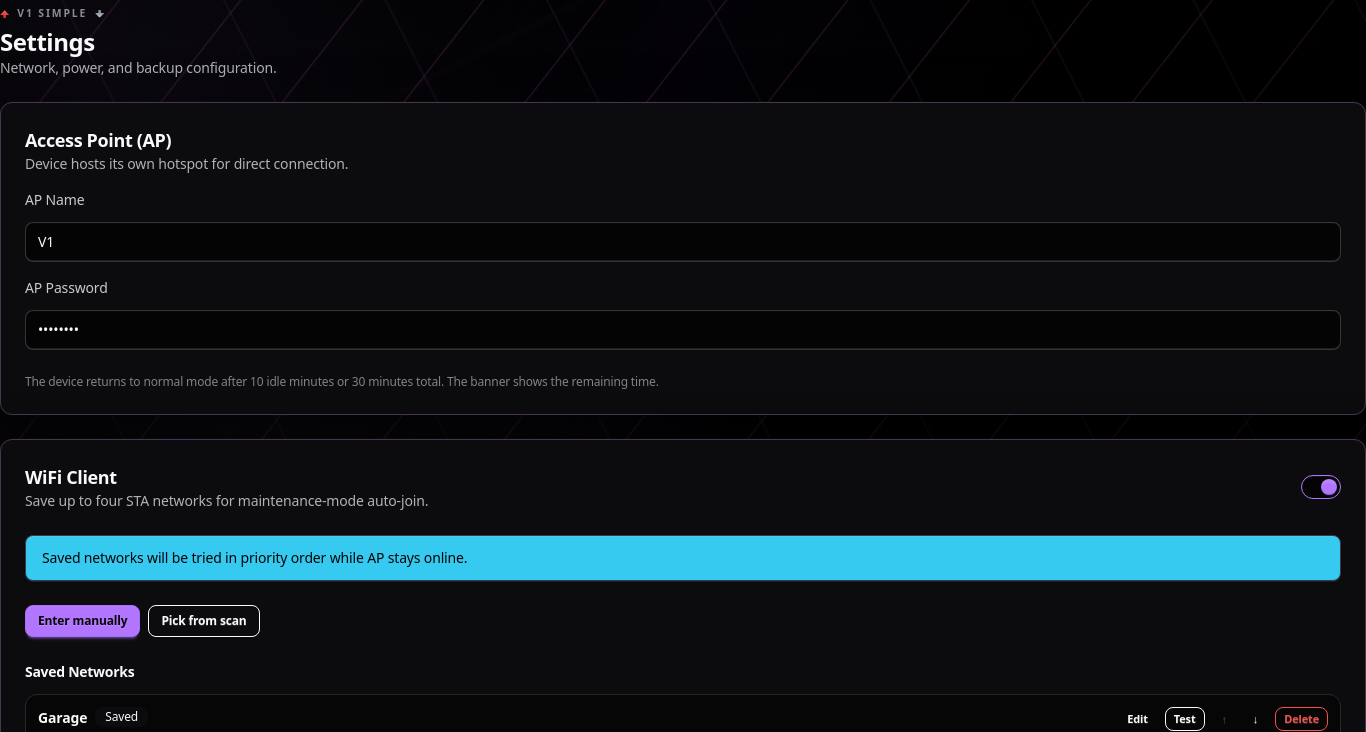
it: settings route page › preserves the legacy AP timeout without offering an ineffective control
Check: the text "returns to normal mode after 10 idle minutes or 30 minutes total" is shown, box [25,373,659,390]
Replace the text in the field labelled "AP Name" with "UpdatedAP" at (683,242), box [25,222,1341,262]
(page scrolled)
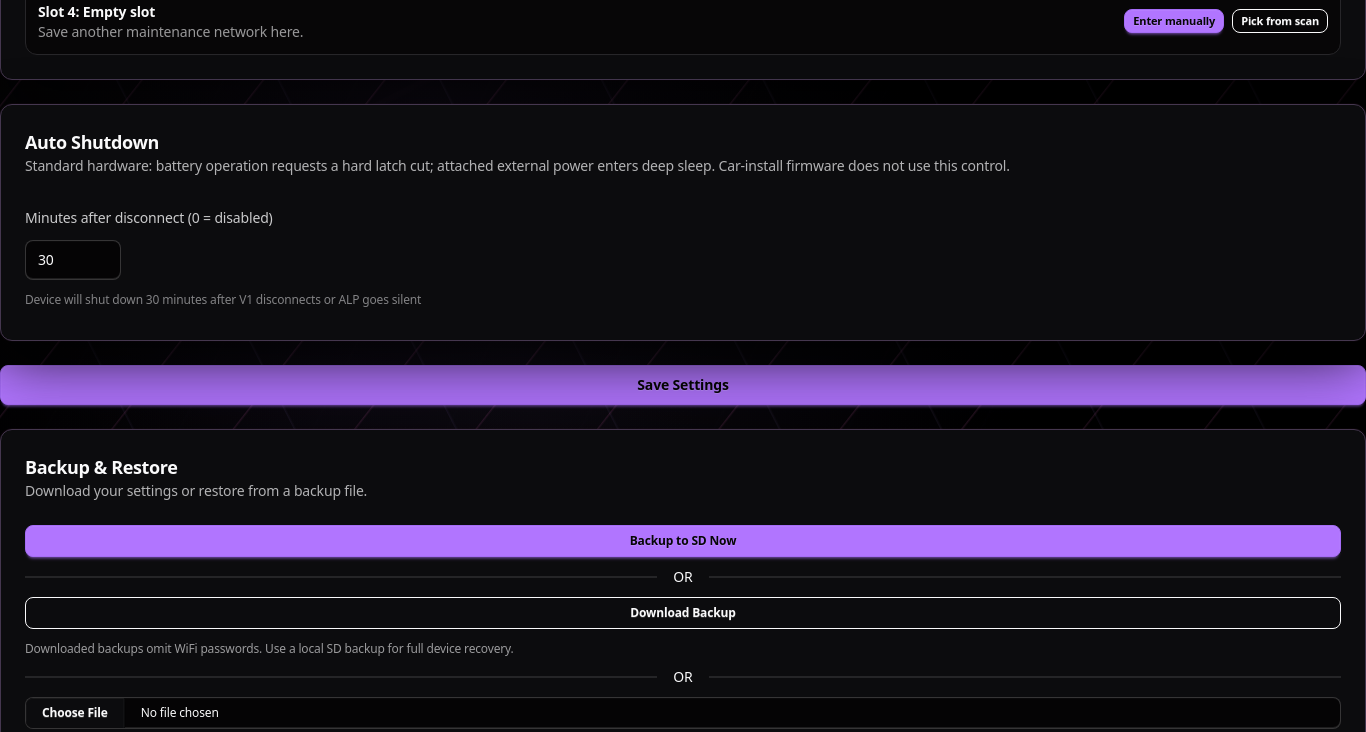
Click the button "Save Settings" at (683,385), box [0,365,1365,405]
(page scrolled)
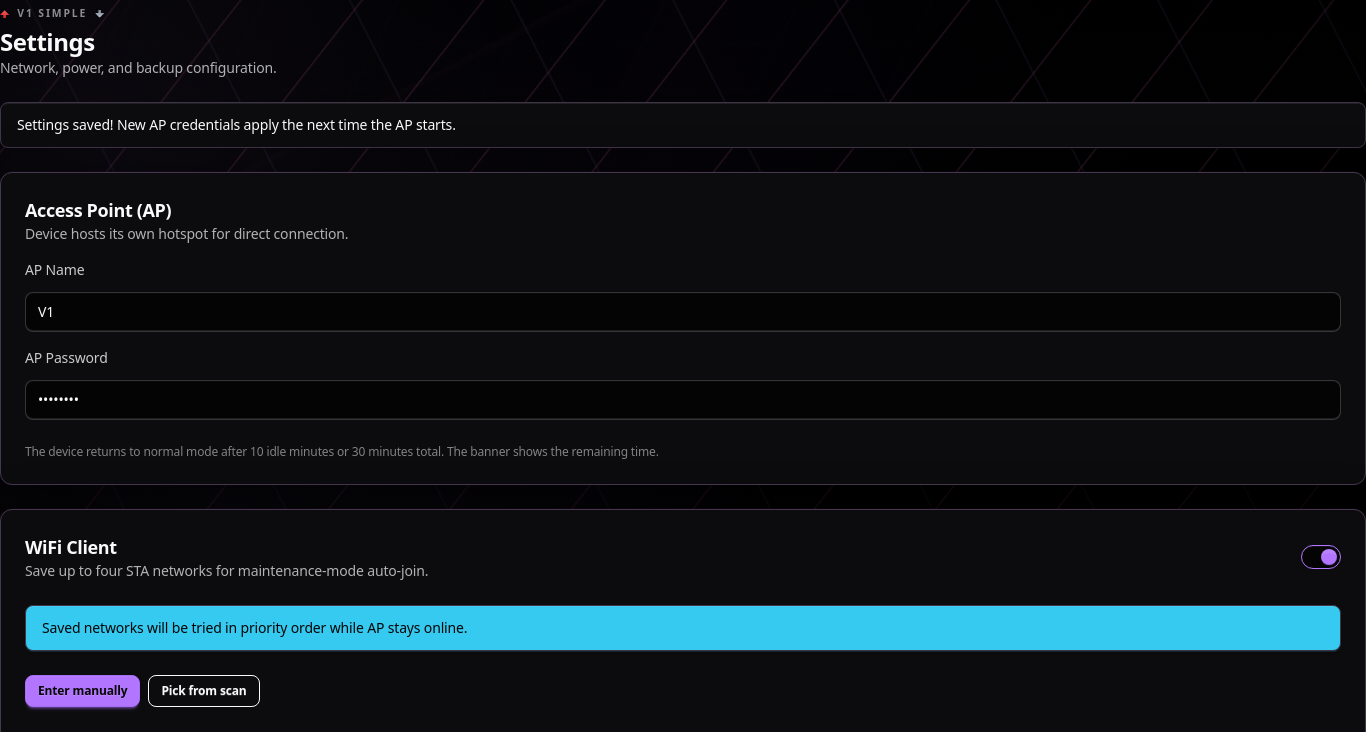
Check: the text "Settings saved! New AP credentials apply the next time the AP starts." is shown, box [17,115,456,135]
